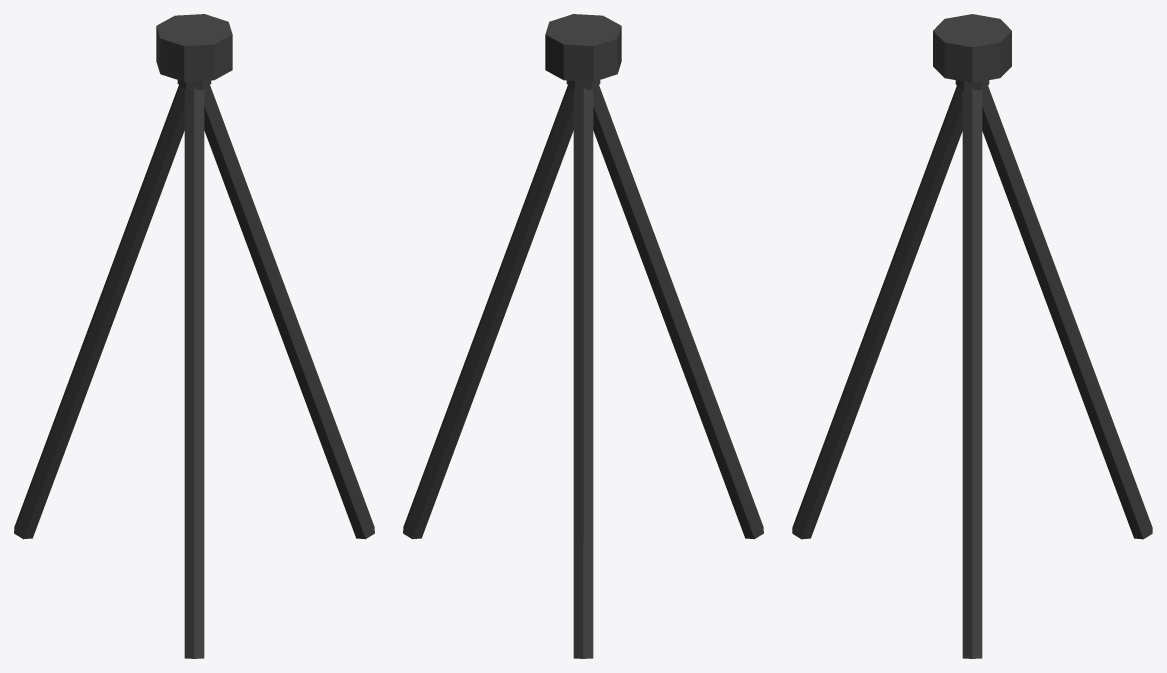
The picture shows the model from 3 angles, left to right: view 1: azimuth 30°, elevation 25°; view 2: azimuth 150°, elevation 25°; view 3: azimuth 270°, elevation 25°; orthographic projection.
Parts seen in each view (by area): view 1: Leg.002, Leg, Leg.001, Mount; view 2: Leg.001, Leg, Leg.002, Mount; view 3: Leg, Leg.002, Leg.001, Mount.
Part boxes in pixels (x1=…): Leg.002: x1=184, y1=87, x2=204, y2=658; Leg: x1=204, y1=85, x2=374, y2=539; Leg.001: x1=14, y1=85, x2=184, y2=539; Mount: x1=156, y1=14, x2=232, y2=81; Leg.001: x1=573, y1=87, x2=593, y2=658; Leg: x1=403, y1=85, x2=573, y2=539; Leg.002: x1=593, y1=85, x2=763, y2=539; Mount: x1=545, y1=14, x2=621, y2=81; Leg: x1=962, y1=87, x2=982, y2=658; Leg.002: x1=792, y1=85, x2=962, y2=539; Leg.001: x1=982, y1=85, x2=1152, y2=539; Mount: x1=933, y1=14, x2=1011, y2=82.
Size of the model in its own units: 56.35 by 107 by 63.98.
